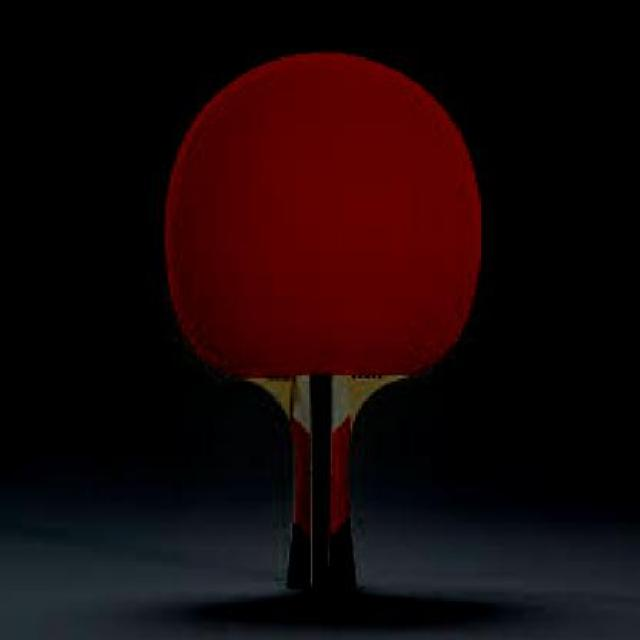table_tennis_racket: (165, 54, 483, 609)
